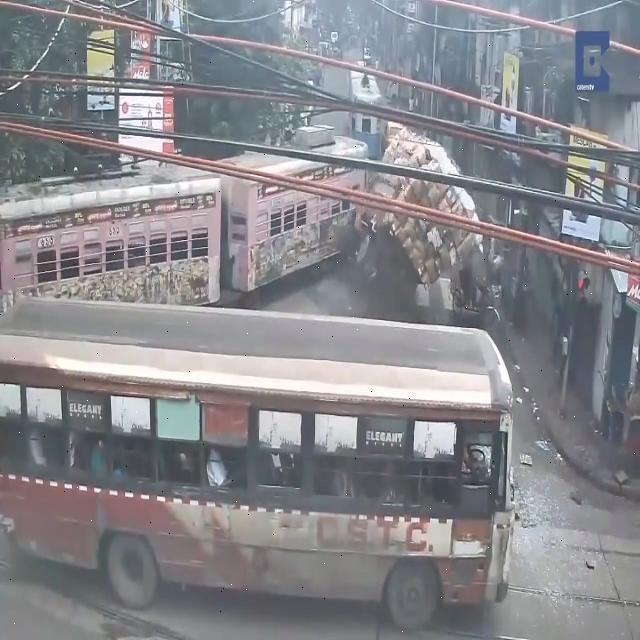accident: (347, 114, 494, 333)
